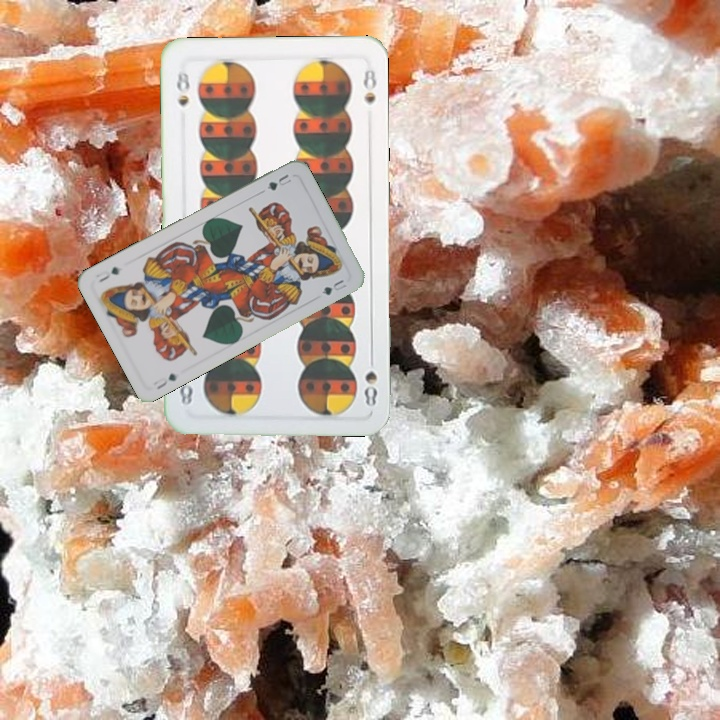GU: (263, 170, 294, 193), (153, 369, 179, 392)
S8: (360, 350, 380, 408), (173, 64, 193, 110)
